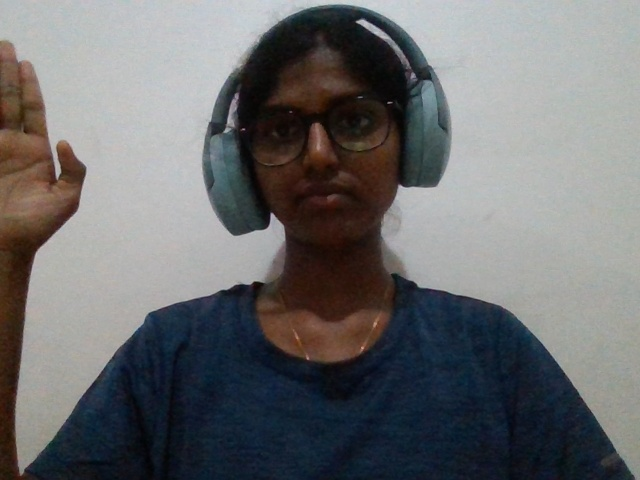Hello: (4, 26, 97, 326)
